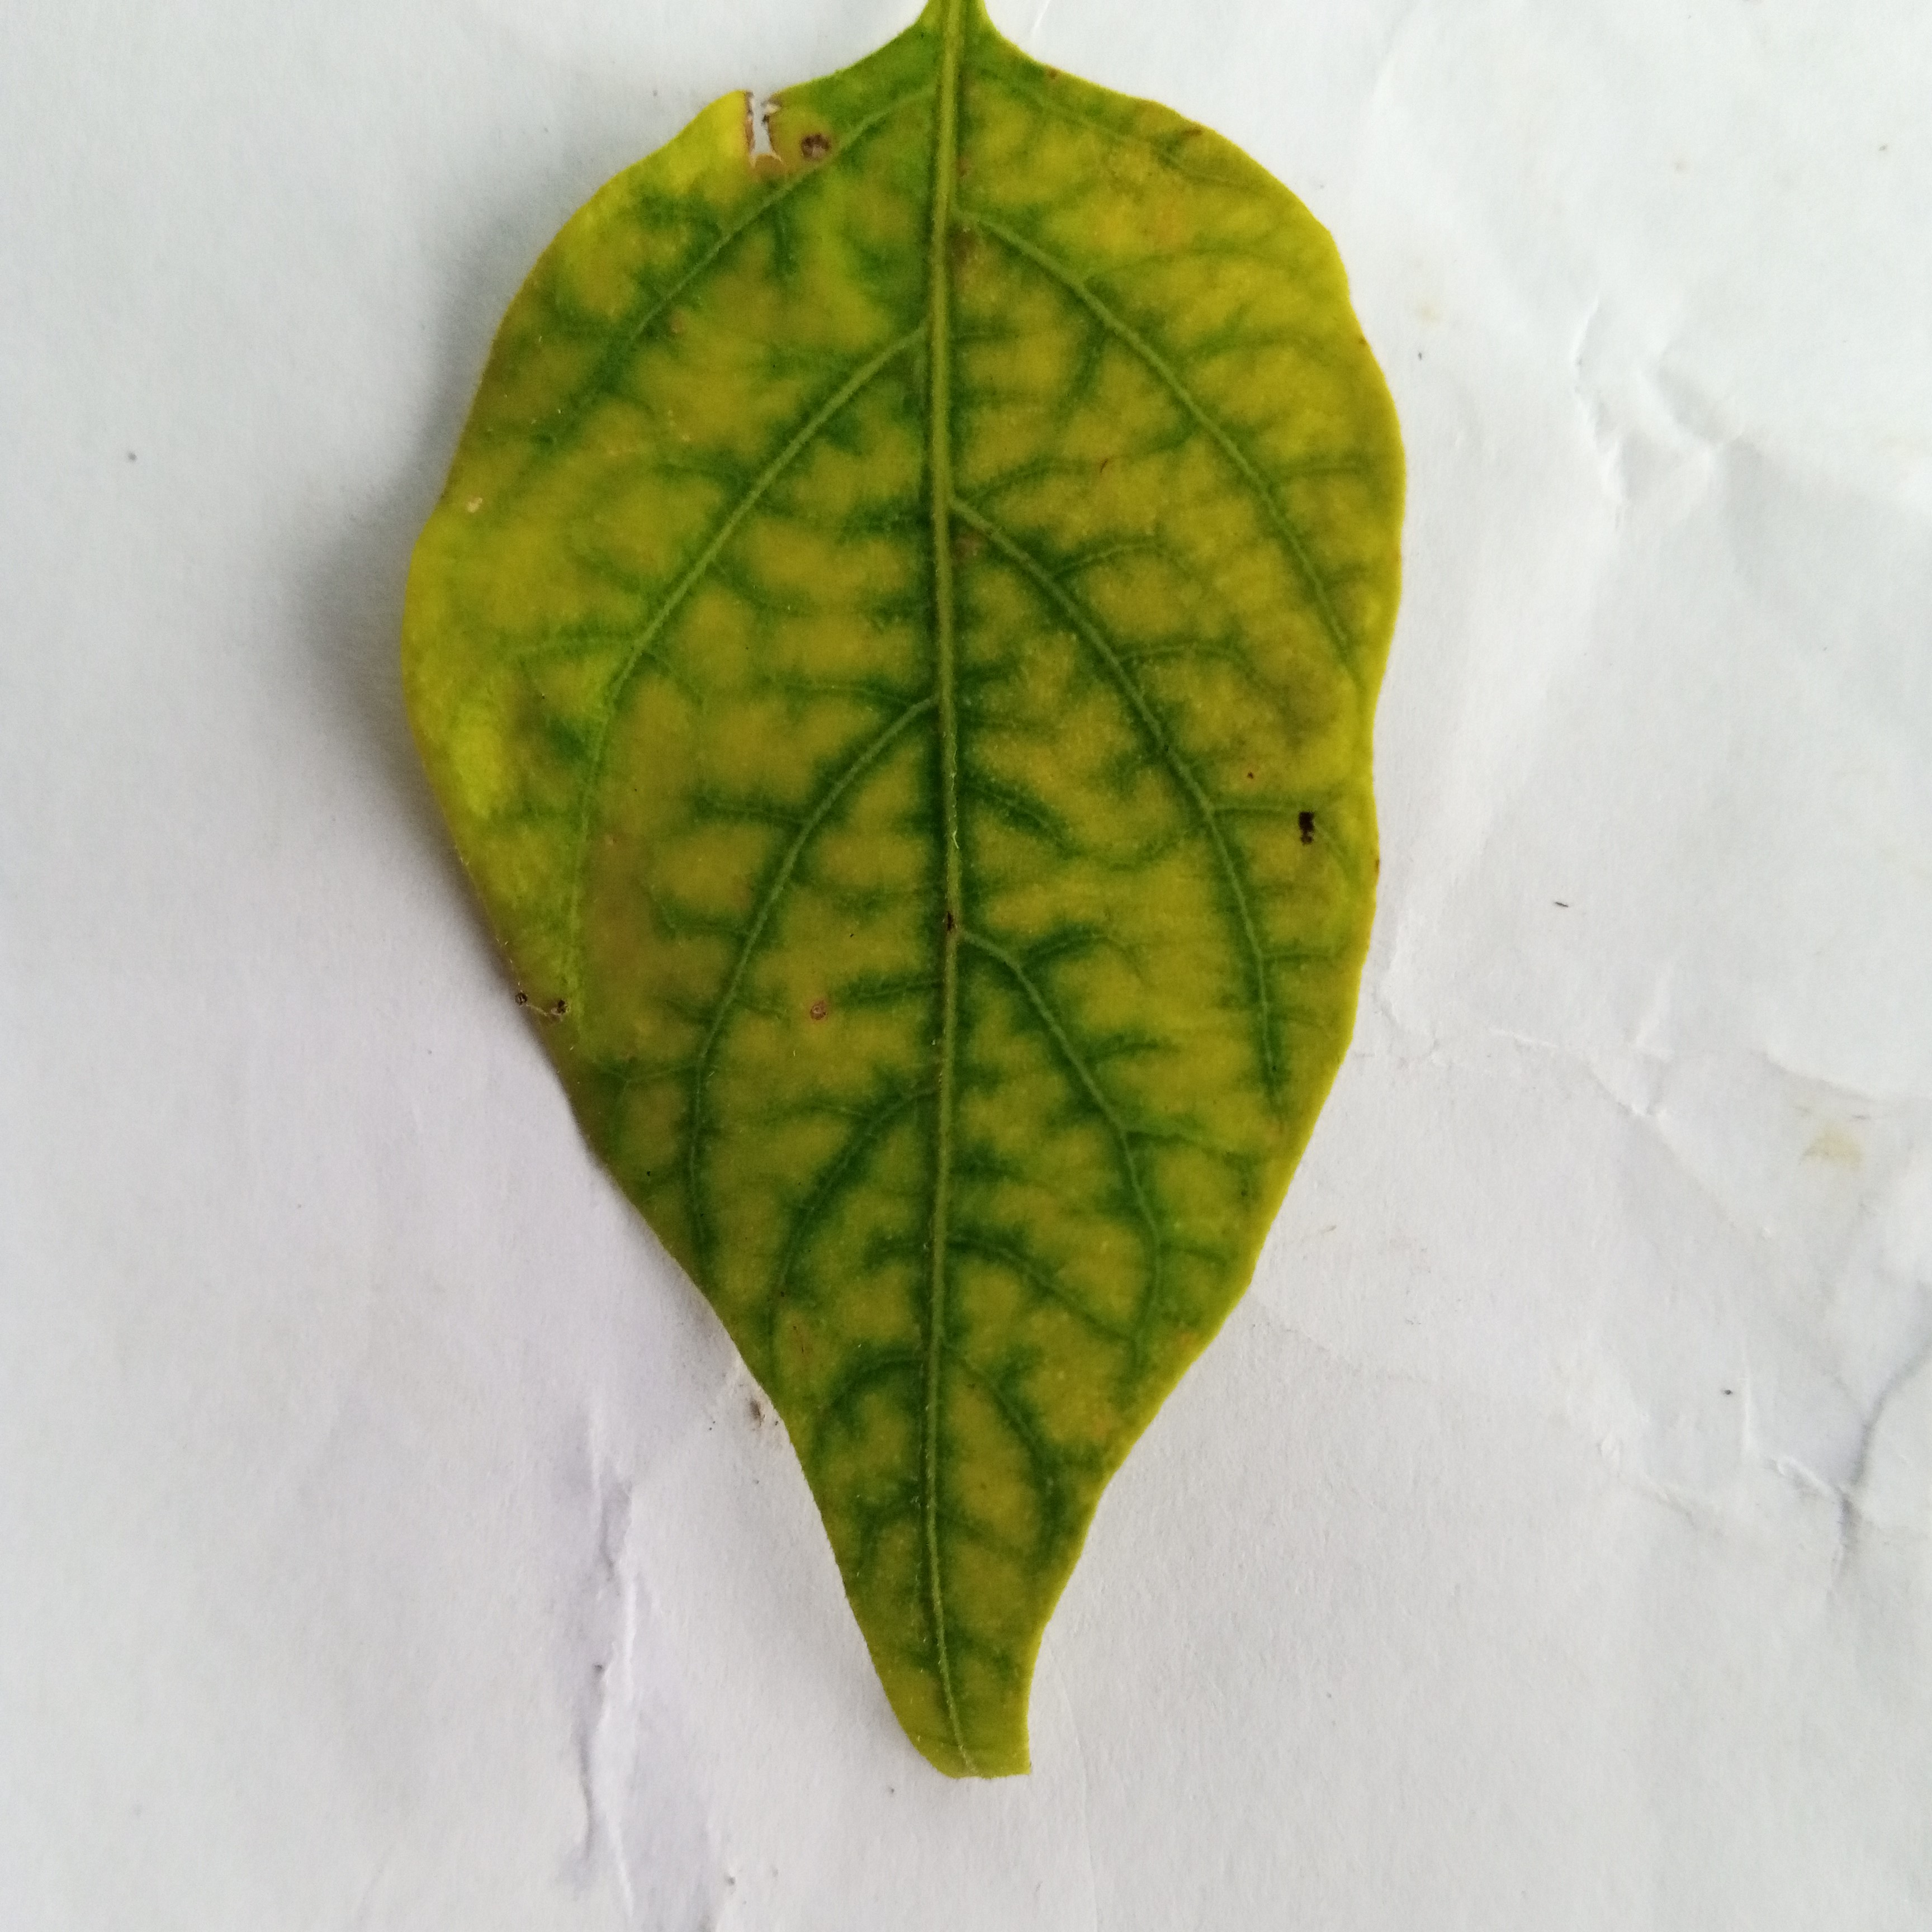Leaf: (297, 12, 1739, 1822)
